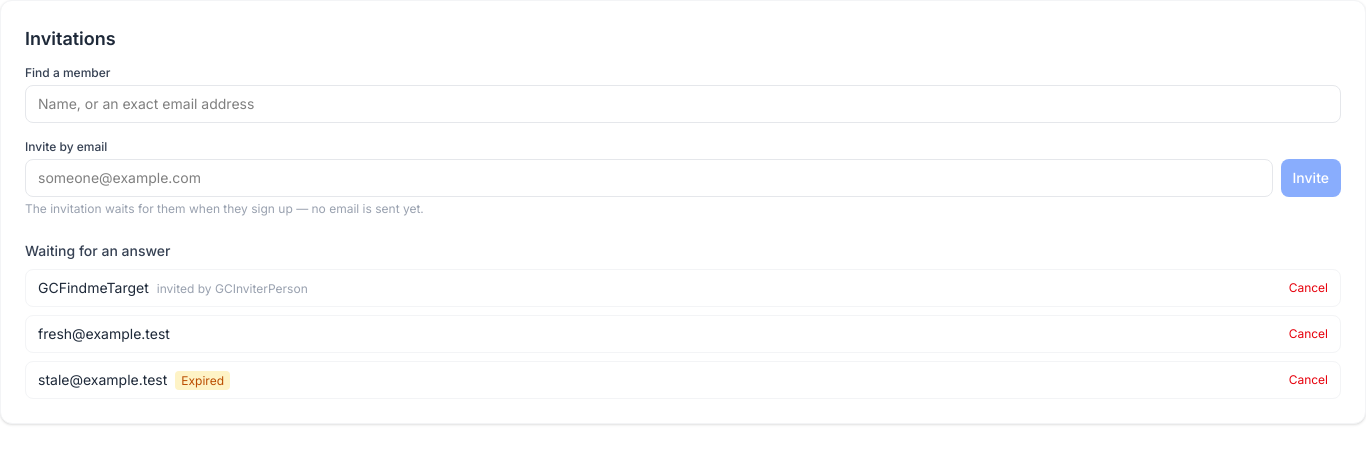
Test: FEAT-H015 — InvitationsPanel (STORY-1/2/3) › email invite sends and shows the honest undispatched copy
Step 1. Type "new@example.test" into the field with test id "invite-email-input" → (649, 178), box top-left (25, 159), bottom-right (1272, 197)
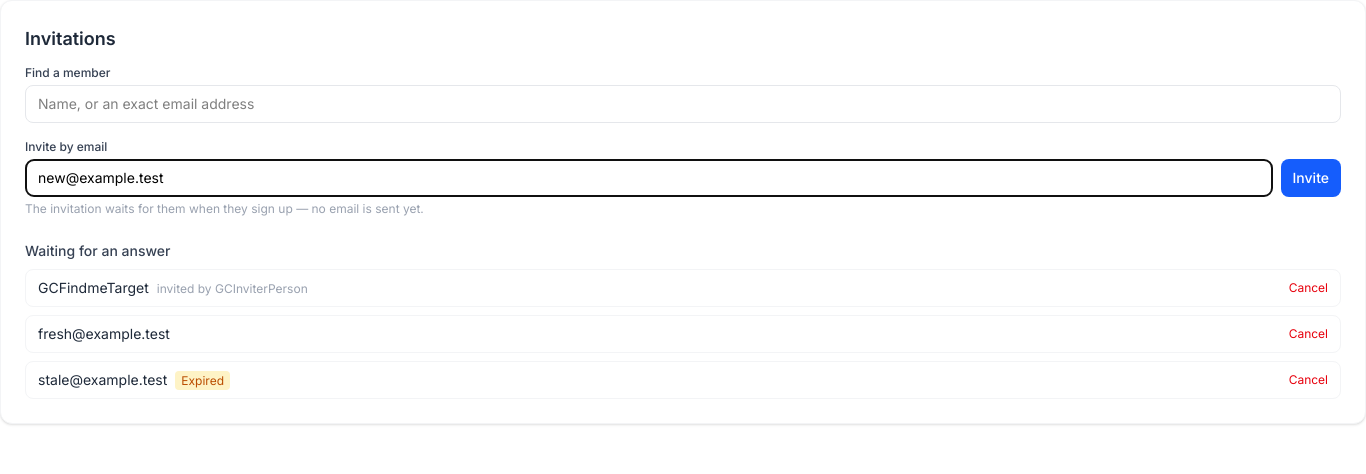
Step 2. Click the button with test id "invite-email-button" → (1311, 178), box top-left (1280, 159), bottom-right (1341, 197)
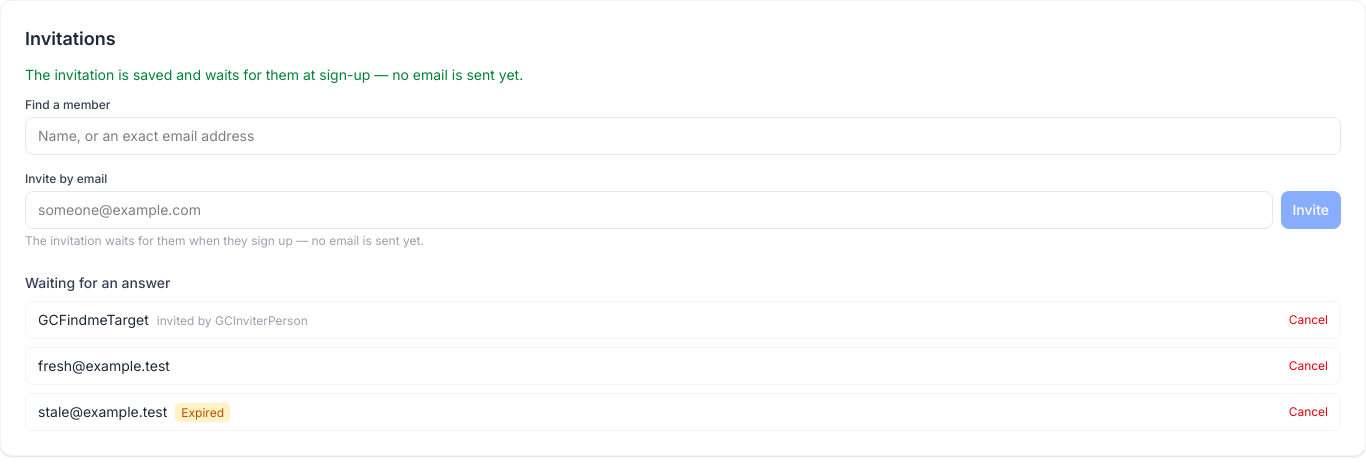
Expected: the text with test id "invite-sent-note" shows "no email is sent", top-left (25, 66), bottom-right (523, 83)
